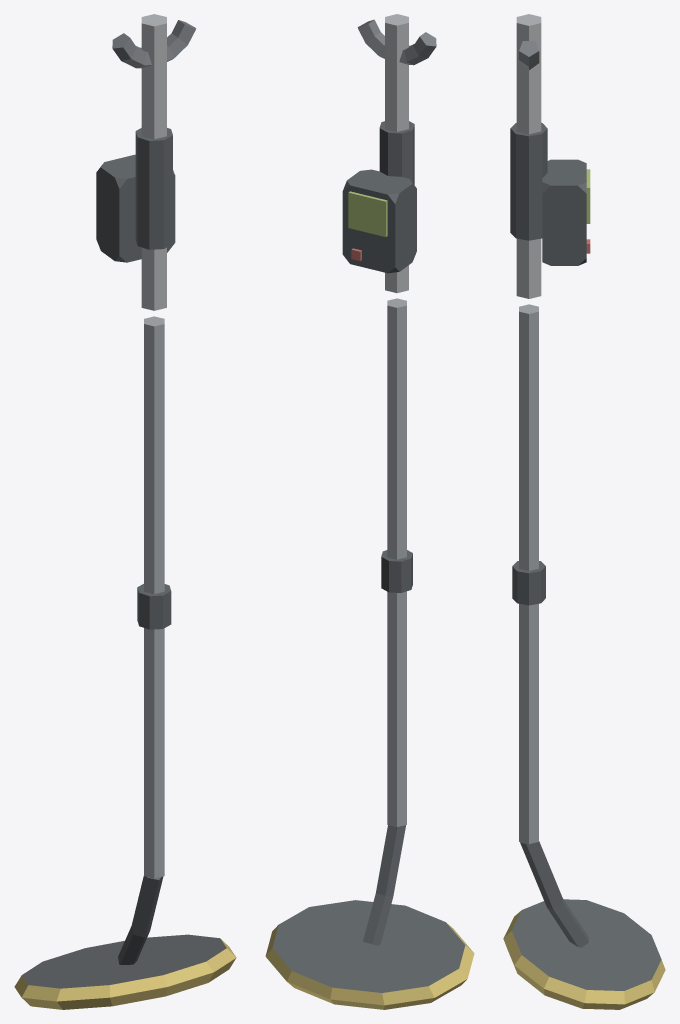
The model's file is tool_metal_detector.glb.
3 views of the same model, side by side, from view 1: azimuth 30°, elevation 25°; view 2: azimuth 150°, elevation 25°; view 3: azimuth 270°, elevation 25° (orthographic). The views are drawn at different scales.
Parts seen in each view (by area): view 1: tool_metal_detector; view 2: tool_metal_detector; view 3: tool_metal_detector.
Boxes of the visible parts, box(x1,y1,x2,y2) form: tool_metal_detector: box(14, 14, 236, 1009); tool_metal_detector: box(265, 14, 474, 1009); tool_metal_detector: box(503, 14, 665, 1009).
Size of the model in its own units: 0.26 by 1.19 by 0.1831.
